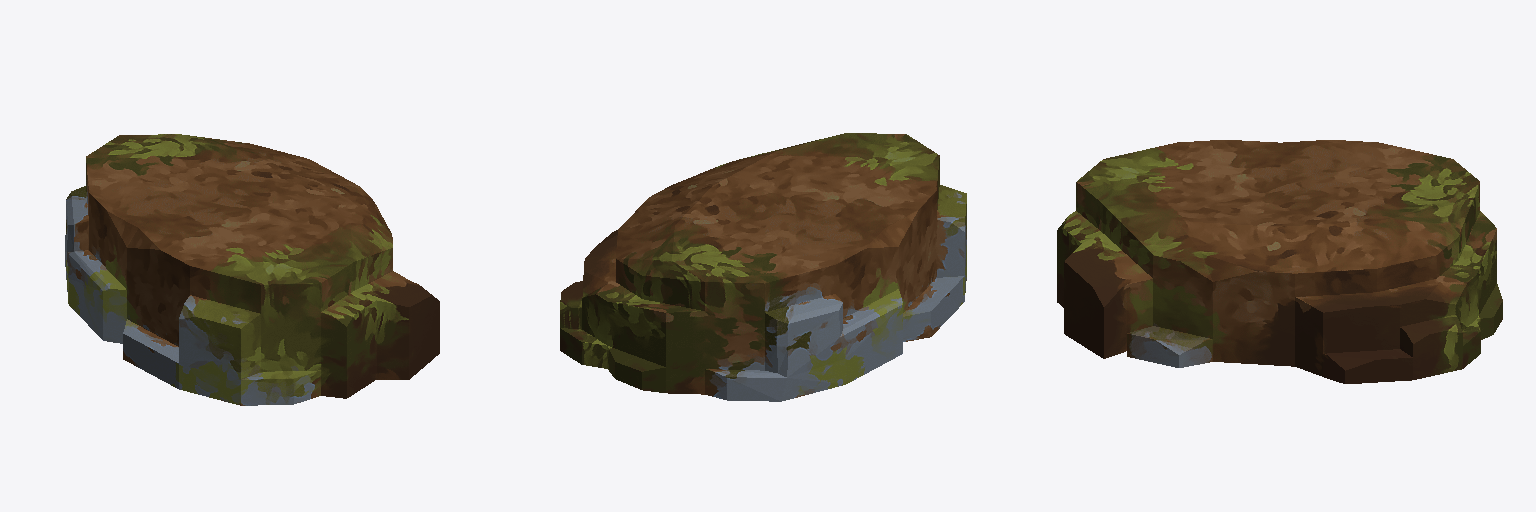
3 views of the same model, side by side, from view 1: azimuth 30°, elevation 25°; view 2: azimuth 150°, elevation 25°; view 3: azimuth 270°, elevation 25° (orthographic).
Visible parts, largest first — view 1: Cylinder; view 2: Cylinder; view 3: Cylinder.
Part boxes in pixels (bbox=[...]): Cylinder: bbox=[65, 134, 439, 405]; Cylinder: bbox=[560, 133, 966, 401]; Cylinder: bbox=[1057, 140, 1502, 383].
Bounding box in the file's own units: 45.74 × 16.62 × 59.7.
Materials: 1 (1 with a texture image).